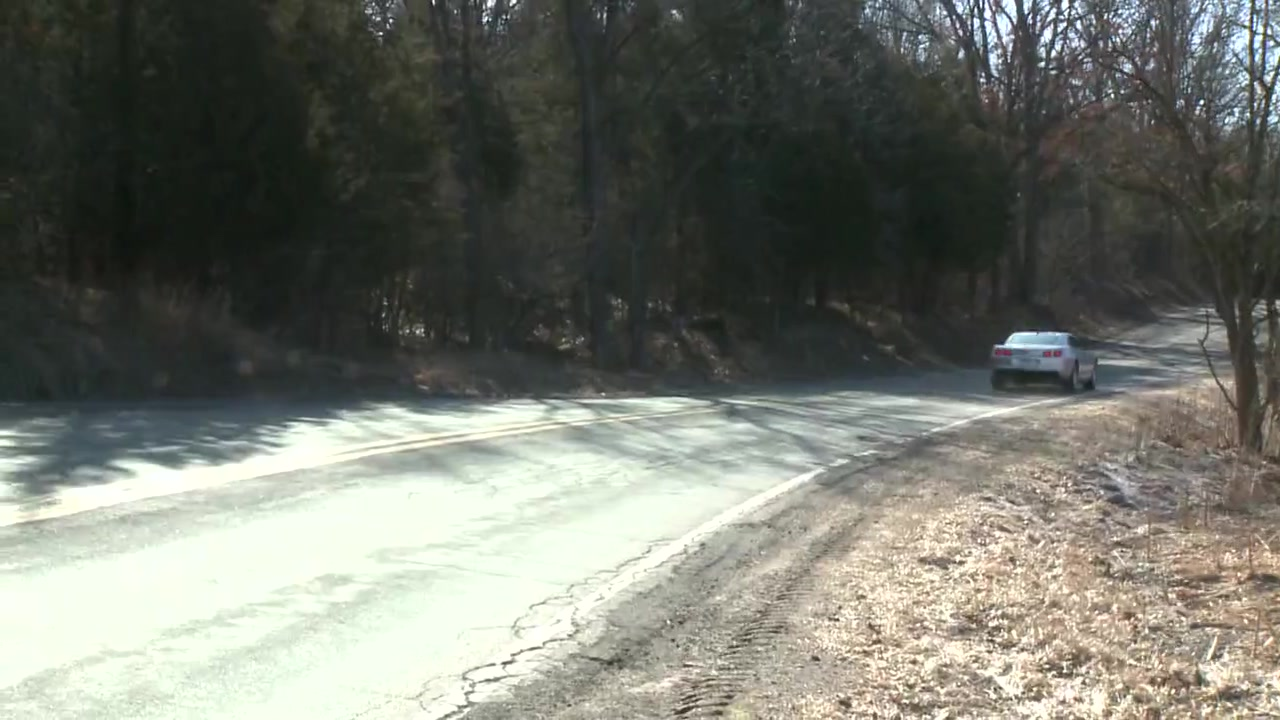car: (989, 324, 1105, 395)
